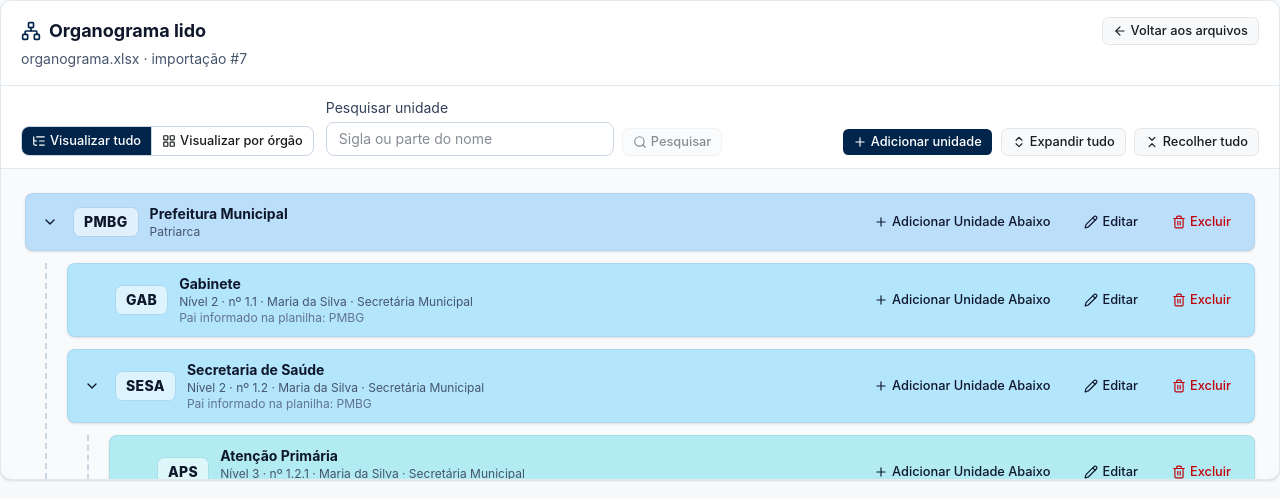
Scenario: visualização hierárquica do organograma › exibe cards dos órgãos e filtra a árvore pelo órgão escolhido
This screenshot has width=1280, height=498.
Check: the list named "Estrutura do organograma" is shown, box [25,193,1255,479]
Step 1. Click the button "Visualizar por órgão" → [232, 141], box [151,127,313,155]
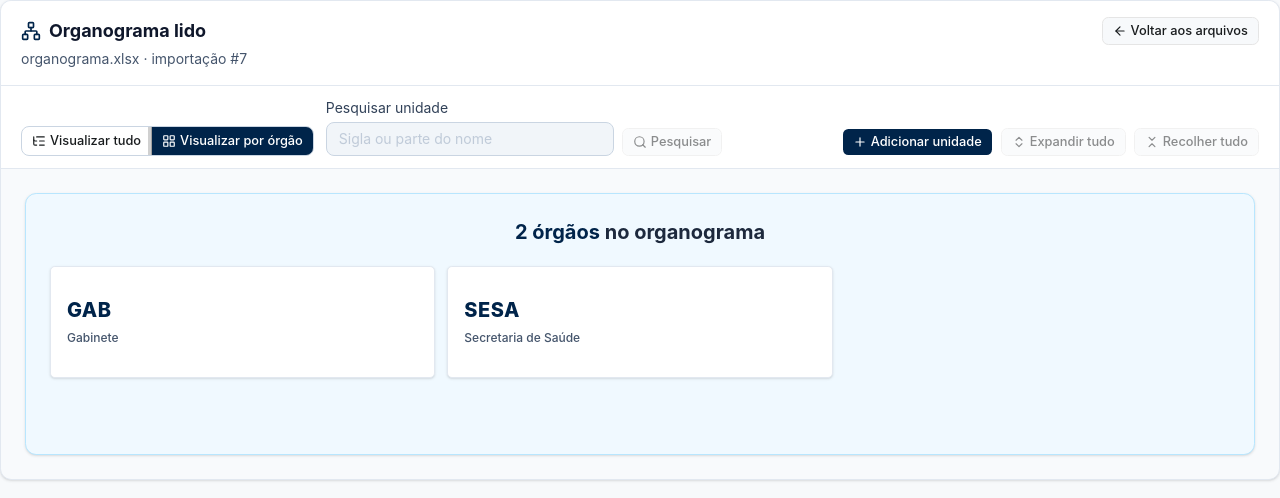
Check: the button with aria-label "Visualizar GAB - Gabinete" is shown, box [50,266,435,378]
Check: the heading "2 órgãos no organograma" is shown, box [515,220,765,244]
Check: the field labelled "Pesquisar unidade" is disabled, box [326,122,614,156]
Step 2. Click the button with aria-label "Visualizar SESA - Secretaria de Saúde" → [492, 310], box [447,266,833,378]
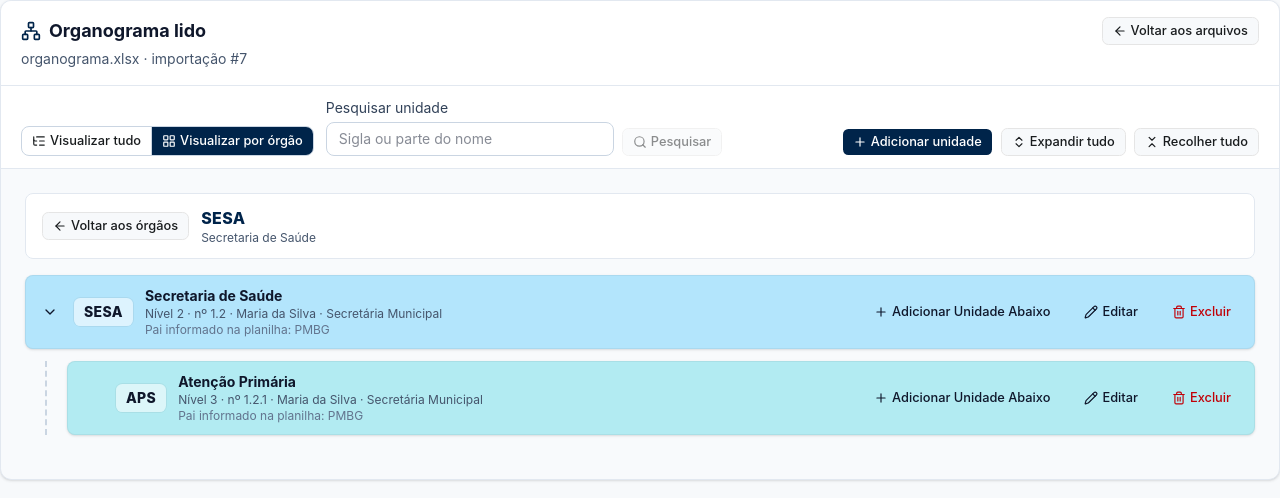
Check: the 2nd text "Secretaria de Saúde" is shown, box [145,287,282,304]
Check: the text "Atenção Primária" is shown, box [178,373,296,390]
Check: the button "Gabinete" is gone
Step 3. Click the button "Voltar aos órgãos" → [116, 226], box [42,212,189,240]
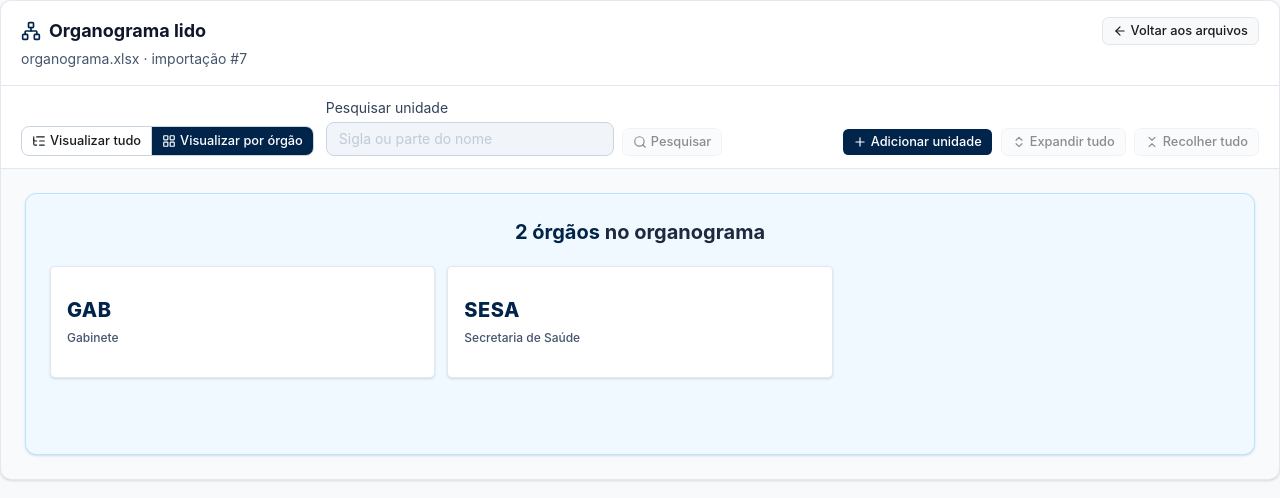
Check: the list named "Órgãos do organograma" is shown, box [50,266,833,378]
Step 4. Click the button "Visualizar tudo" → [87, 141], box [22,127,151,155]
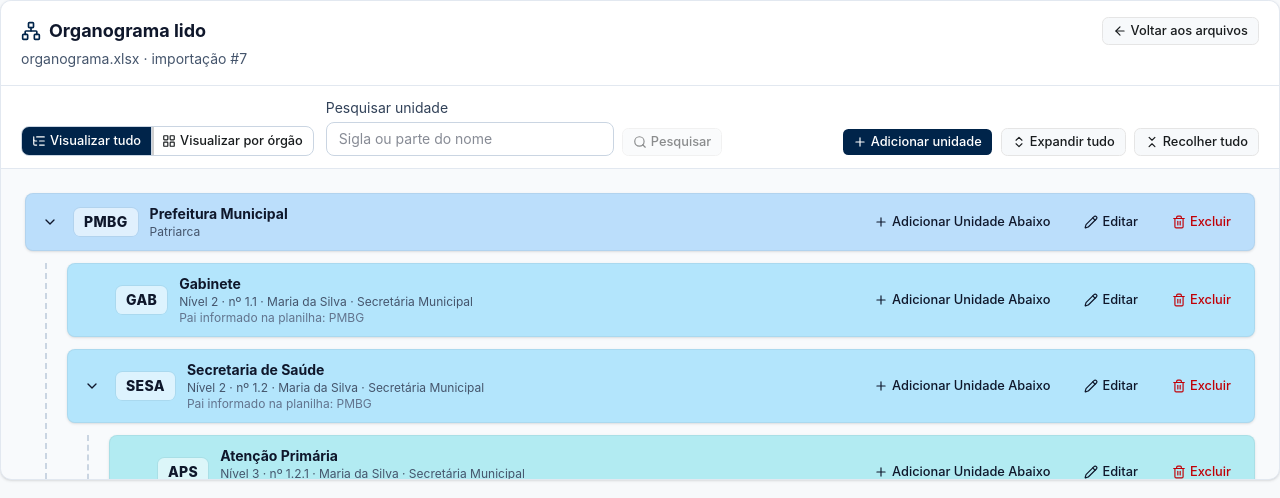
Check: the text "Prefeitura Municipal" is shown, box [150,205,288,222]
